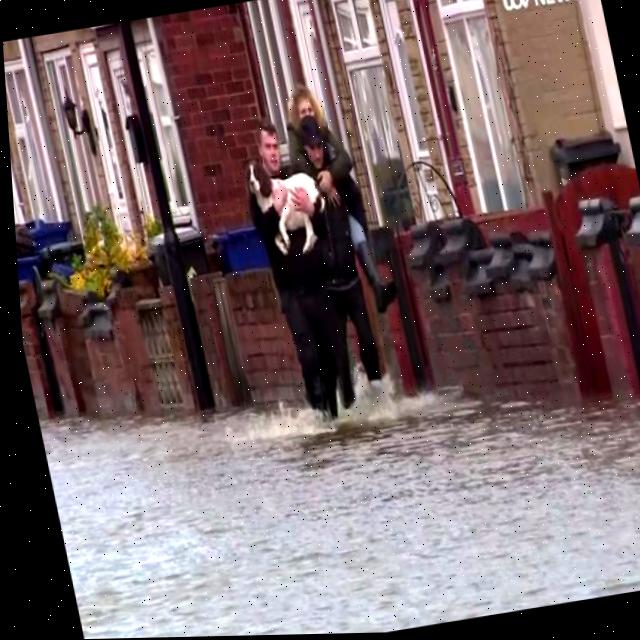civilian: (234, 112, 369, 440), (271, 68, 421, 327), (285, 108, 408, 413)
dog: (229, 144, 351, 277)
